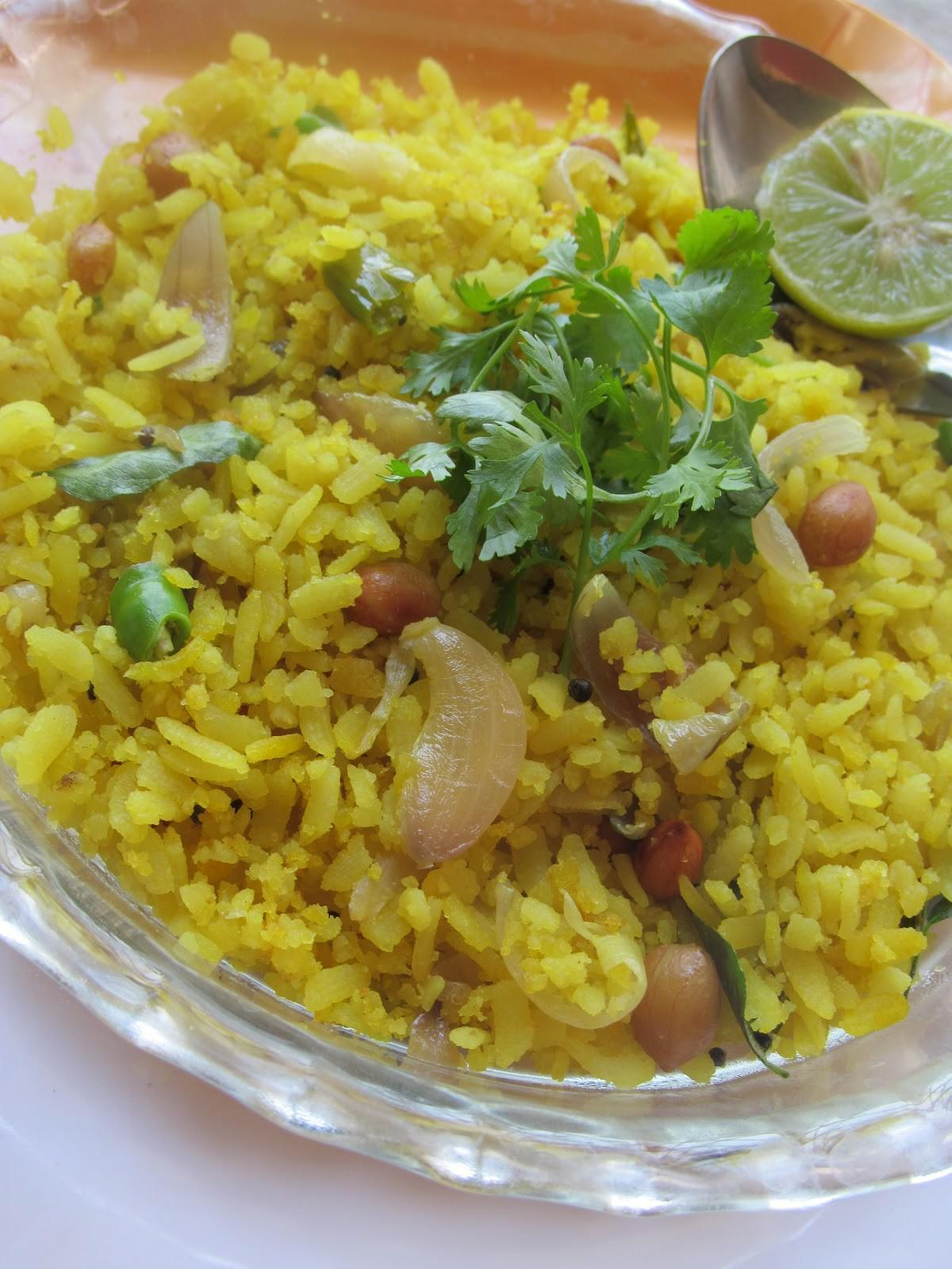Poha: (0, 24, 952, 1082)
